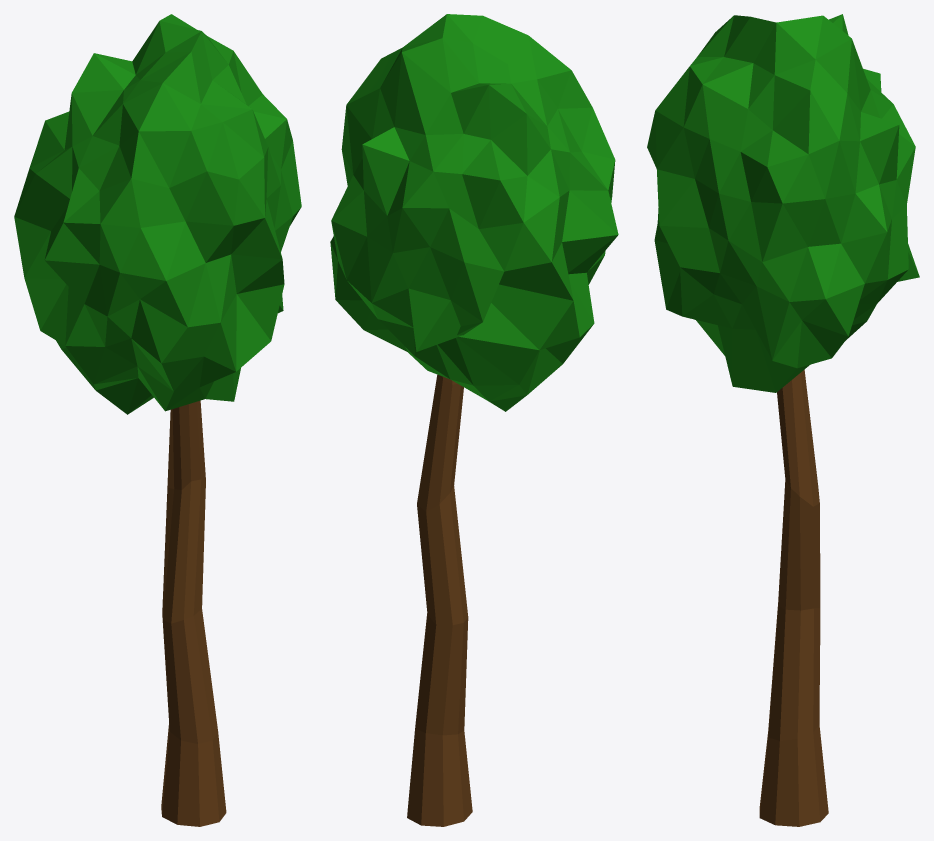
The model's file is Arvores0.fbx.
The picture shows the model from 3 angles, left to right: view 1: azimuth 30°, elevation 25°; view 2: azimuth 150°, elevation 25°; view 3: azimuth 270°, elevation 25°; orthographic projection.
Parts seen in each view (by area): view 1: Cylinder.001; view 2: Cylinder.001; view 3: Cylinder.001.
Part boxes in pixels (x1,y1,x2,y2): Cylinder.001: (14,14,301,826); Cylinder.001: (330,14,618,826); Cylinder.001: (647,14,919,826).
Size of the model in its own units: 5.9 by 17.19 by 5.37.
